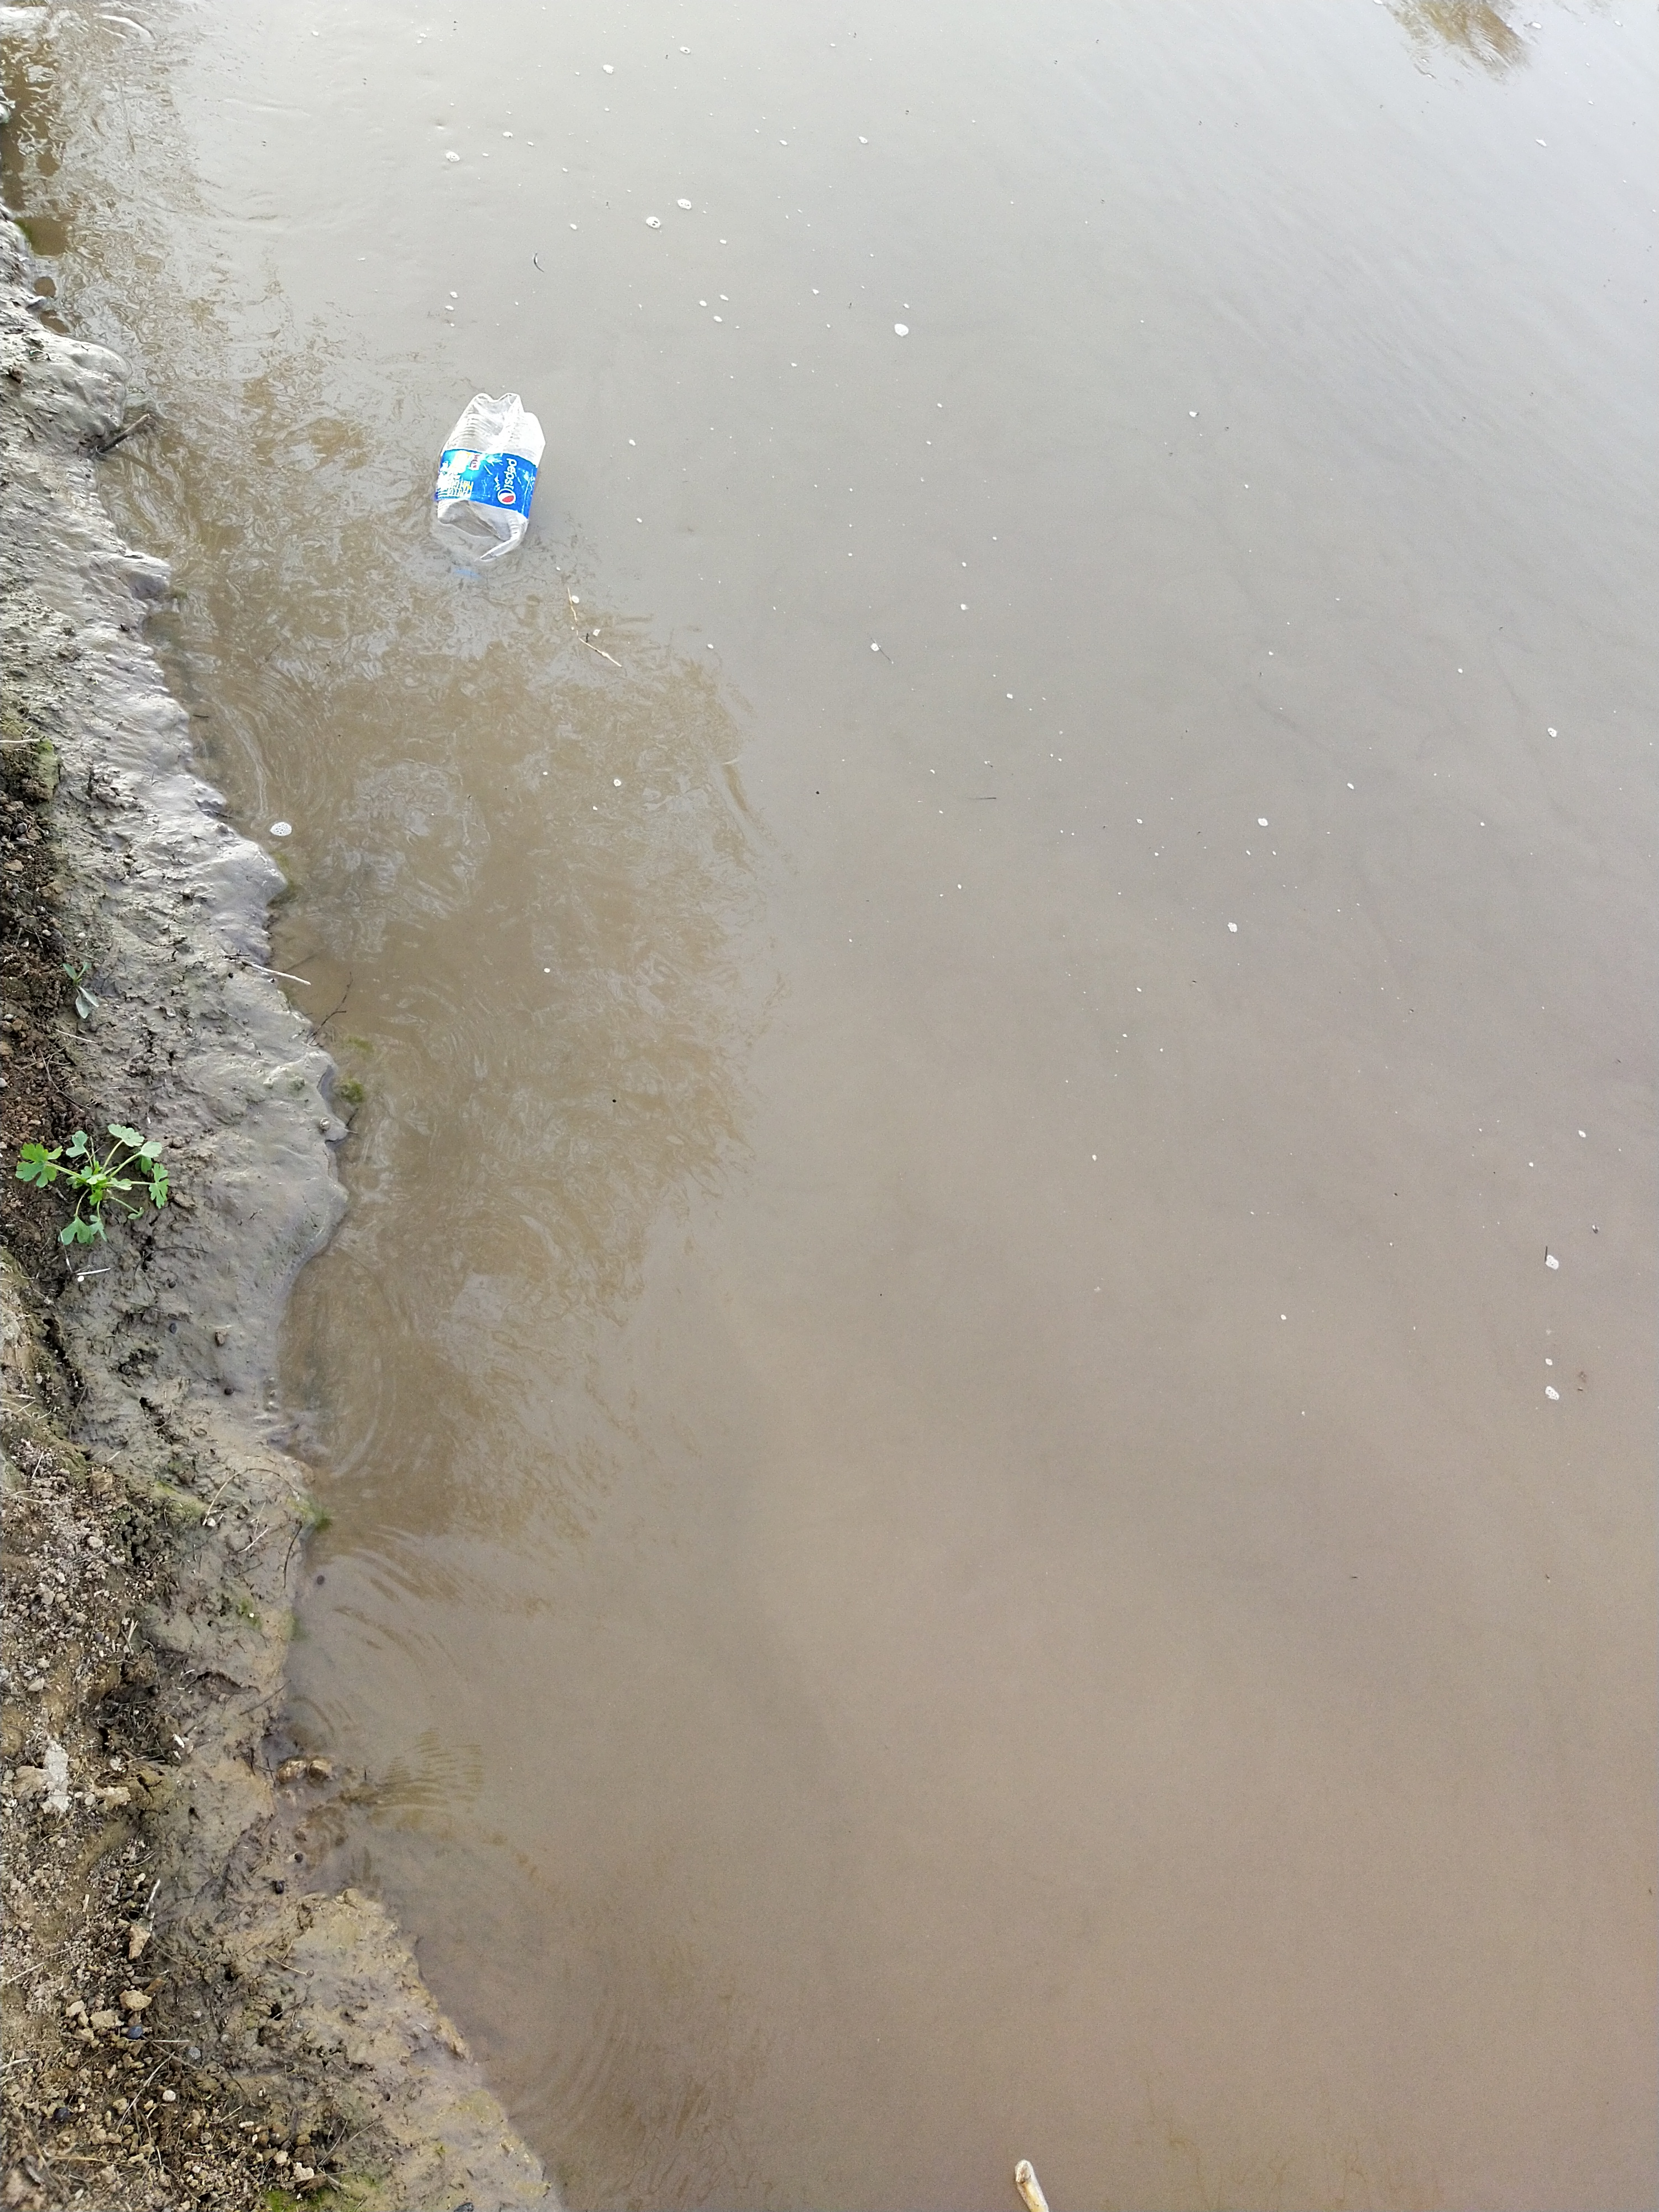Plastic Bottle: (436, 392, 545, 577)
